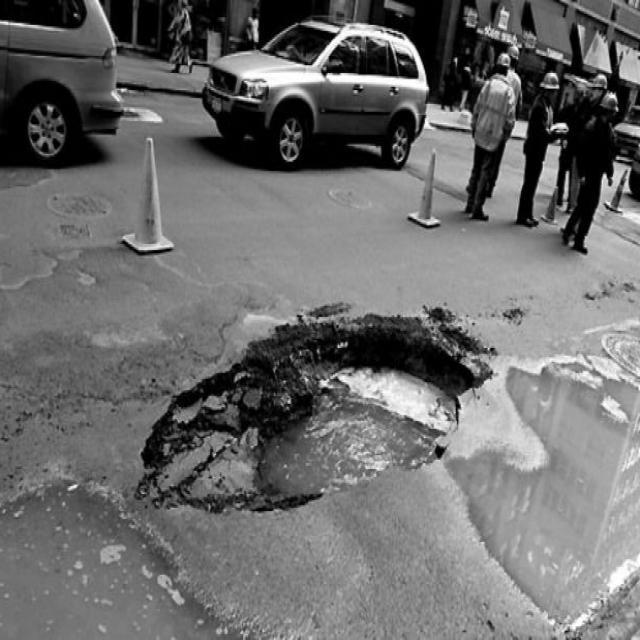Pothole: (131, 299, 503, 518)
